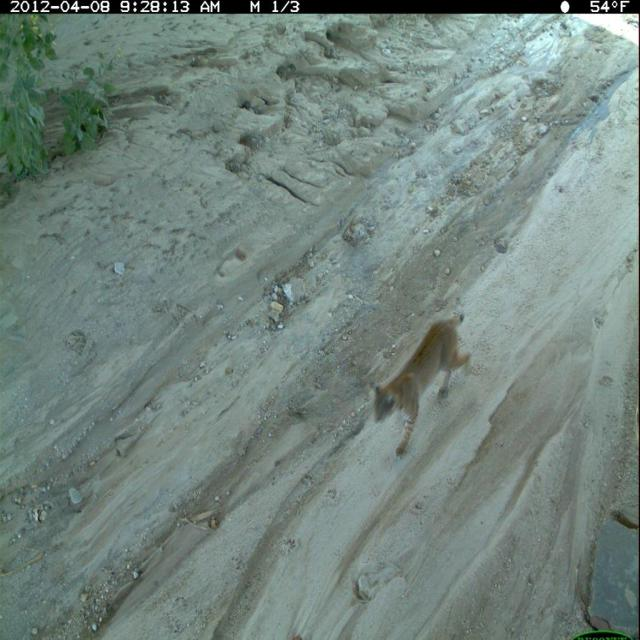bobcat: (372, 309, 477, 462)
